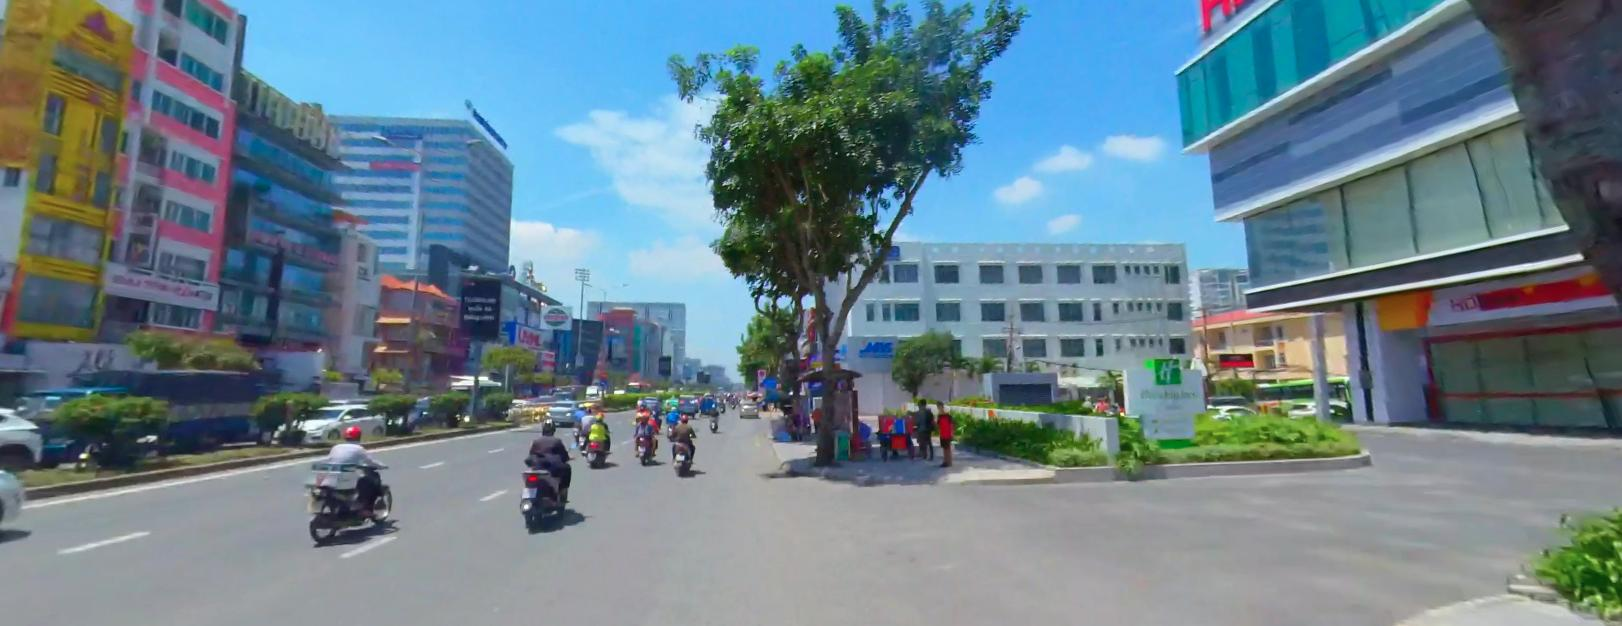Cam dung va do: (758, 369, 765, 376)
